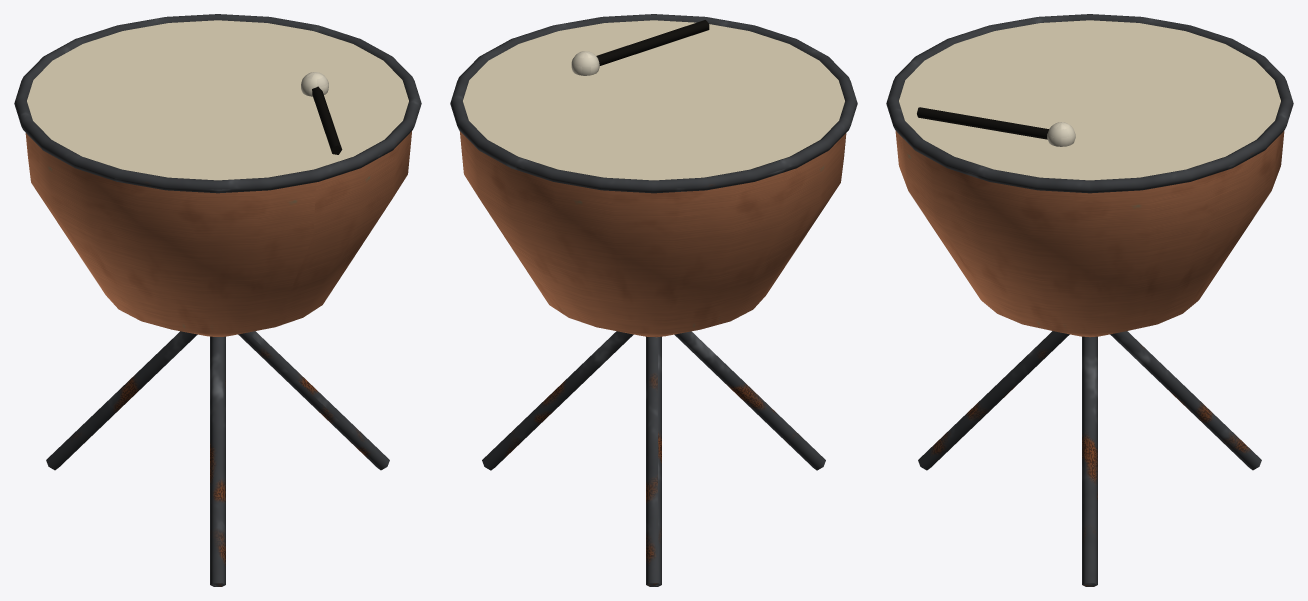
The model's file is timpani.glb.
The picture shows the model from 3 angles, left to right: view 1: azimuth 30°, elevation 25°; view 2: azimuth 150°, elevation 25°; view 3: azimuth 270°, elevation 25°; orthographic projection.
Parts seen in each view (by area): view 1: timpani; view 2: timpani; view 3: timpani.
Part boxes in pixels (x1,y1,x2,y2): timpani: [14, 14, 421, 586]; timpani: [450, 14, 857, 586]; timpani: [886, 14, 1293, 586].
Size of the model in its own units: 0.7145 by 0.8232 by 0.7145.
5 materials, 3 textured.
